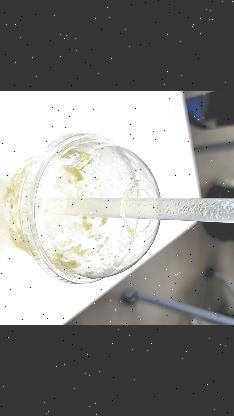Others: (0, 130, 160, 285), (21, 132, 162, 288), (25, 196, 234, 223)
